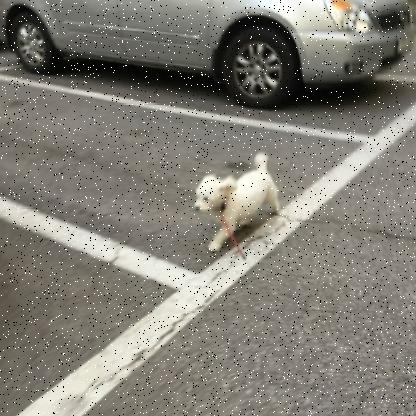dog: (191, 149, 300, 252)
